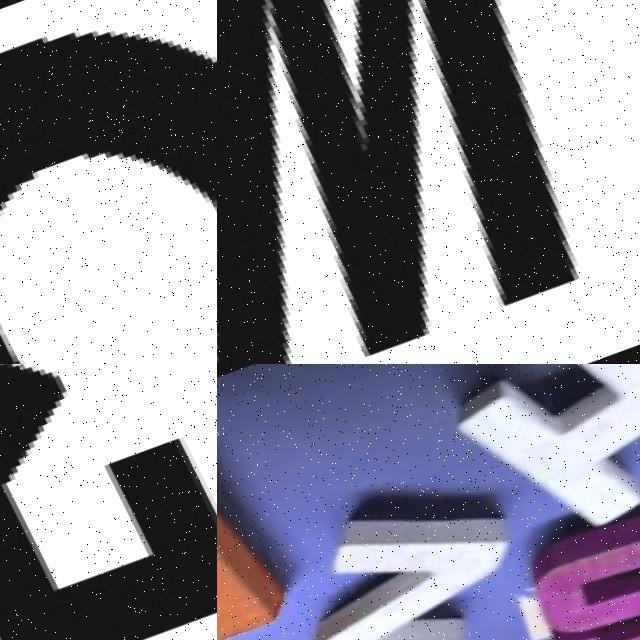3: (0, 364, 217, 640)
E: (217, 450, 304, 640)
H: (408, 364, 640, 561)
O: (0, 0, 217, 364)
S: (488, 477, 640, 640)
W: (217, 0, 640, 364)
Z: (221, 456, 564, 640)
